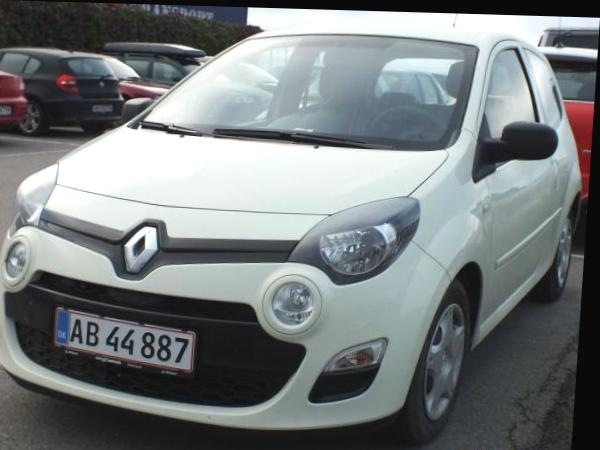License_Plate: (58, 308, 200, 374)
